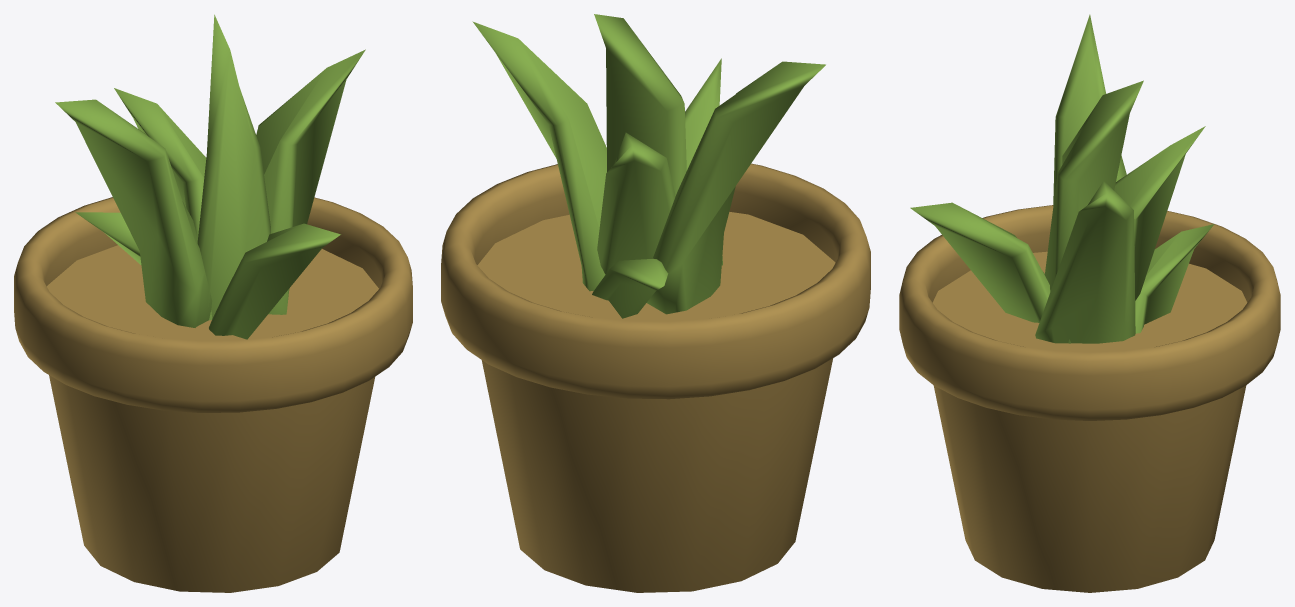
The model's file is Plant1.fbx.
The picture shows the model from 3 angles, left to right: view 1: azimuth 30°, elevation 25°; view 2: azimuth 150°, elevation 25°; view 3: azimuth 270°, elevation 25°; orthographic projection. The views are drawn at different scales.
Parts seen in each view (by area): view 1: pCylinder1, pasted__pasted__pasted__pCube1; view 2: pCylinder1, pasted__pasted__pasted__pCube1; view 3: pCylinder1, pasted__pasted__pasted__pCube1.
Boxes of the visible parts, x1,y1,x2,y2 form: pCylinder1: [14, 197, 412, 592]; pasted__pasted__pasted__pCube1: [55, 14, 365, 339]; pCylinder1: [441, 163, 870, 592]; pasted__pasted__pasted__pCube1: [472, 14, 825, 318]; pCylinder1: [899, 205, 1280, 592]; pasted__pasted__pasted__pCube1: [910, 14, 1214, 343].
Size of the model in its own units: 3.06 by 4.2 by 3.06.
